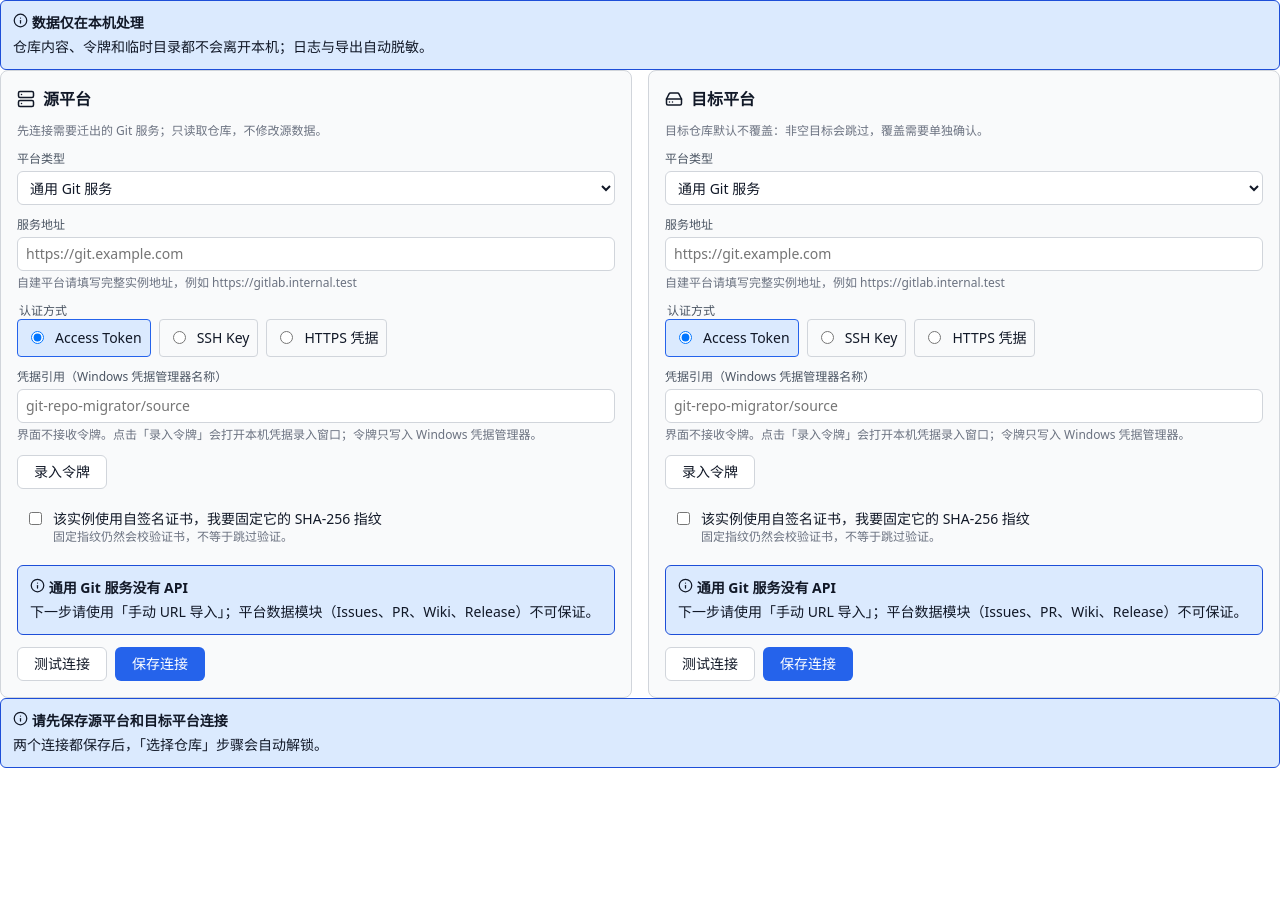
Test: 连接页交互 › 凭据引用里粘贴令牌会被拦在渲染进程内
Type "https://git.example.test" into the field labelled "服务地址" below "先连接需要迁出的 Git 服务；只读取仓库，不修改源数据。" at (316, 254), box [17, 237, 615, 271]
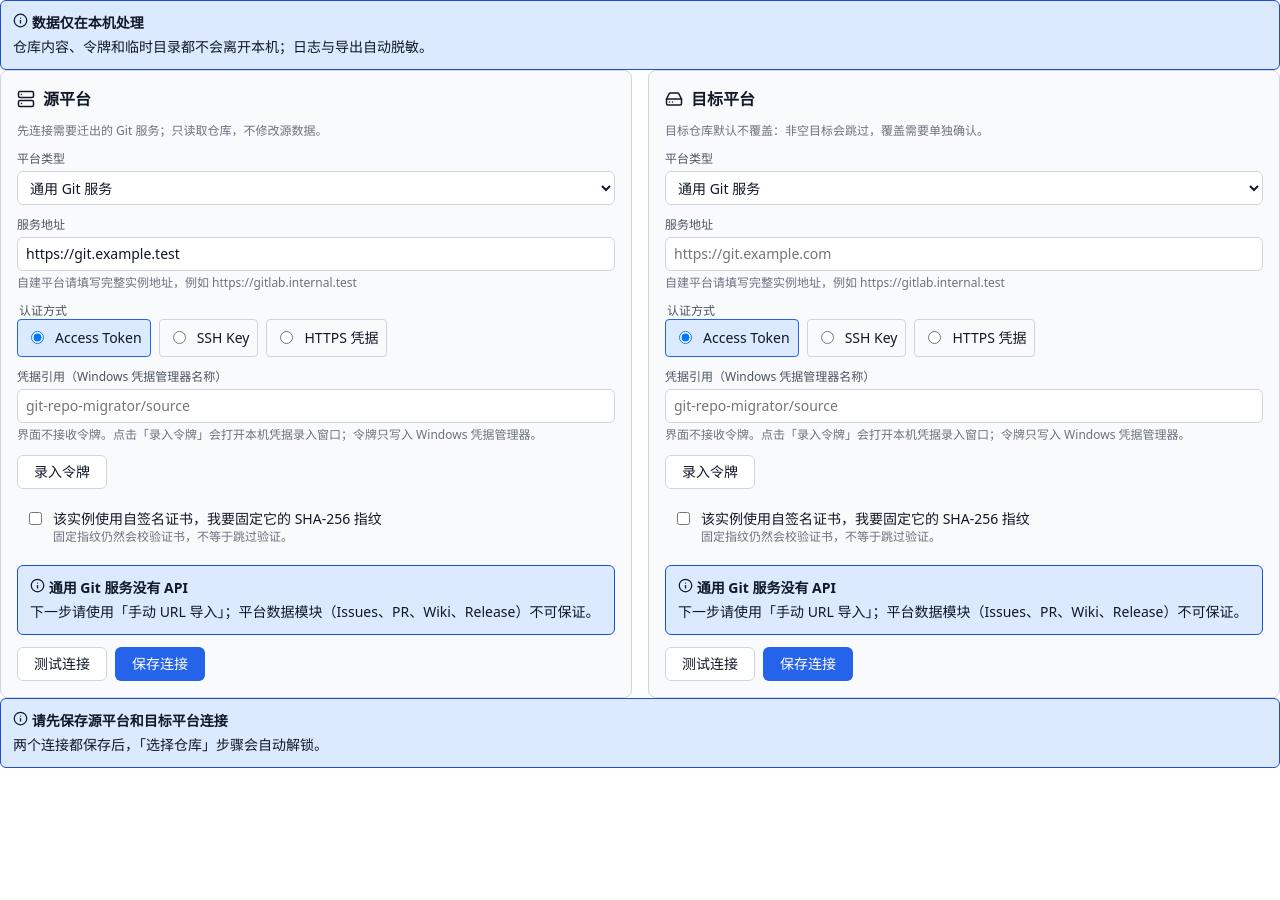
Type "ghp_0123456789abcdefghij" into the field labelled "凭据引用（Windows 凭据管理器名称）" below "先连接需要迁出的 Git 服务；只读取仓库，不修改源数据。" at (316, 406), box [17, 389, 615, 423]
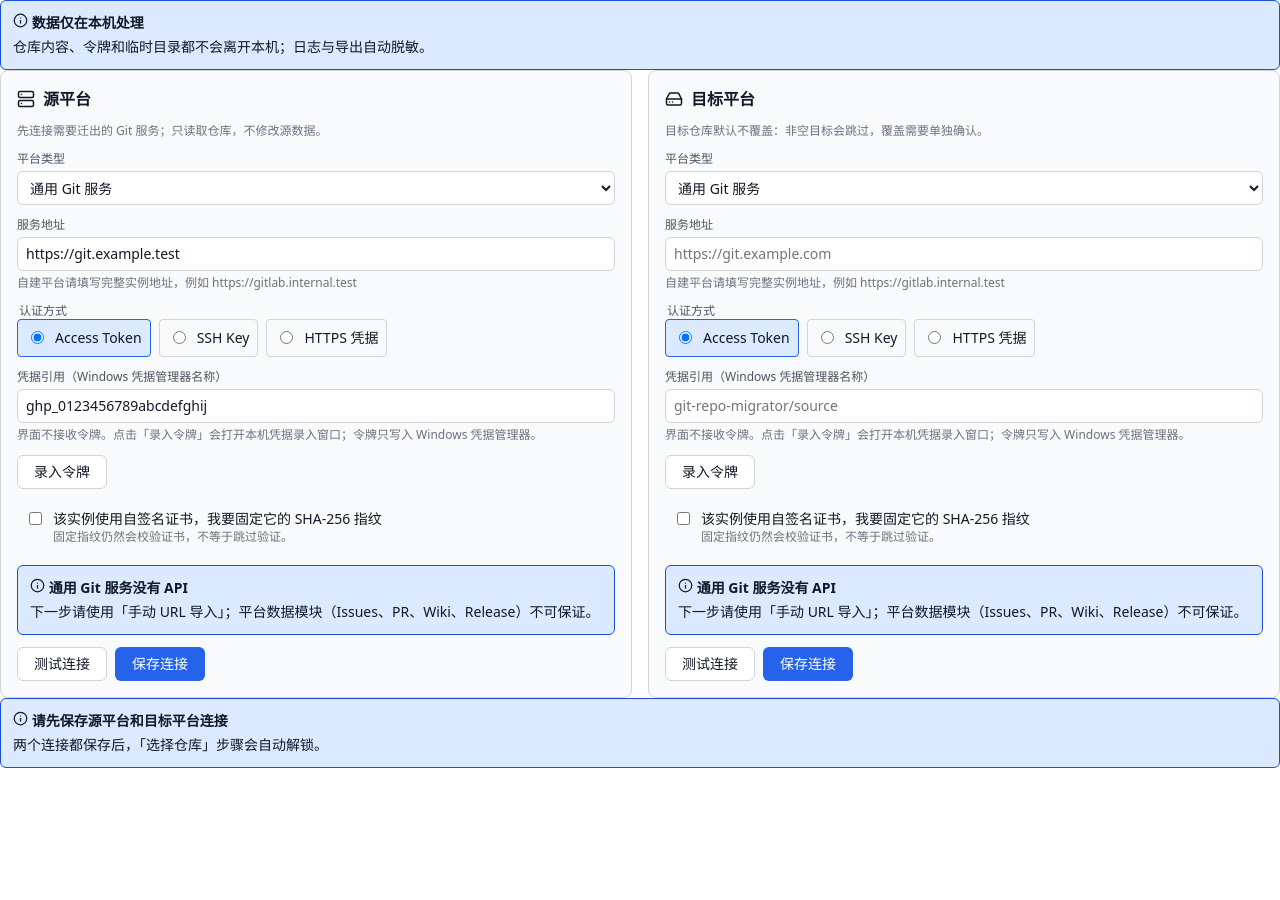
Click the 1st button "测试连接" at (62, 664), box [17, 647, 107, 681]
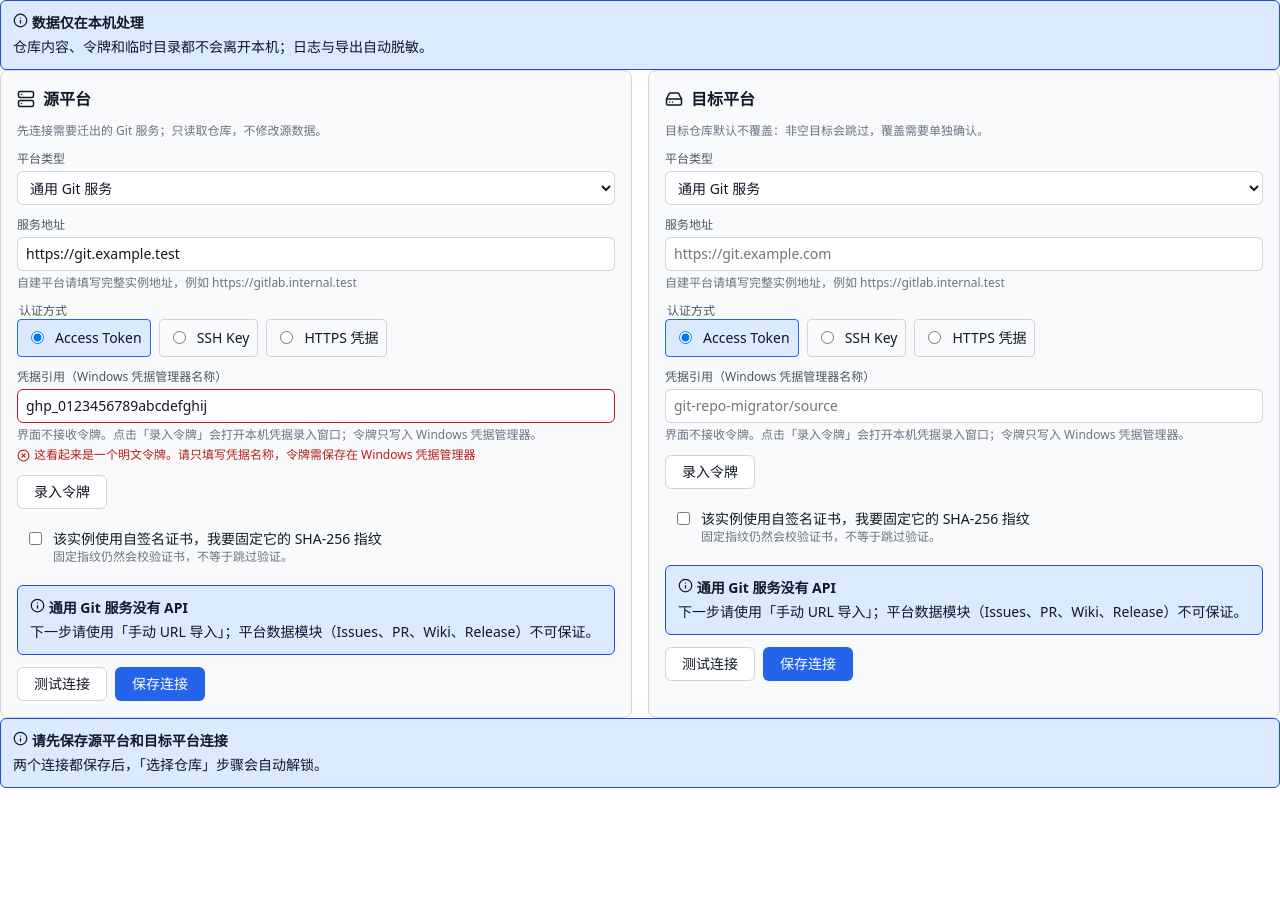
Now the text "这看起来是一个明文令牌。请只填写凭据名称，令牌需保存在 Windows 凭据管理器" is shown, box [17, 446, 476, 463]
